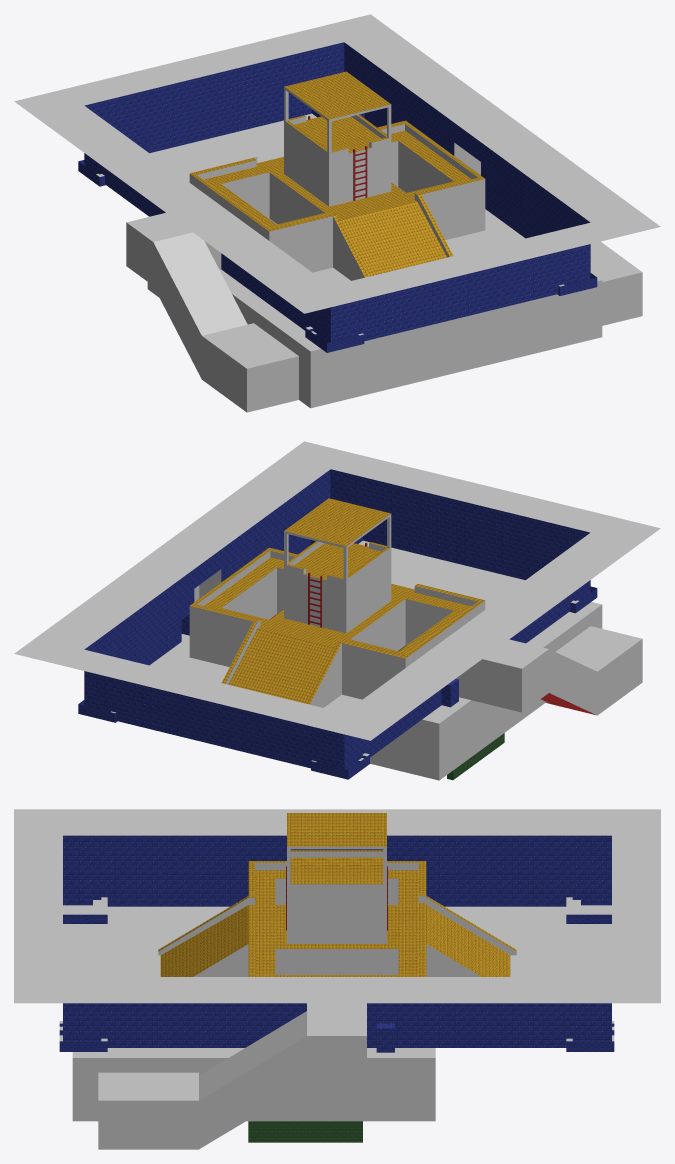
The model's file is map.obj.
3 renders of one model, top to bottom at view 1: azimuth 30°, elevation 25°; view 2: azimuth 150°, elevation 25°; view 3: azimuth 270°, elevation 25°, orthographic. The views are drawn at different scales.
Visible parts, largest first — view 1: Plane.002, Plane.001, Plane.004, Cube.008; view 2: Plane.002, Plane.001, Plane.004, Cube.008, Cube.005; view 3: Plane.002, Plane.001, Plane.004, Cube.008, Cube.005.
Part boxes in pixels (bbox=[...]): Plane.002: bbox=[14, 14, 660, 412]; Plane.001: bbox=[189, 71, 485, 280]; Plane.004: bbox=[150, 113, 525, 285]; Cube.008: bbox=[78, 110, 597, 352]; Plane.002: bbox=[14, 441, 660, 780]; Plane.001: bbox=[189, 498, 485, 707]; Plane.004: bbox=[149, 540, 524, 712]; Cube.008: bbox=[78, 537, 597, 779]; Cube.005: bbox=[447, 733, 504, 780]; Plane.002: bbox=[14, 809, 660, 1149]; Plane.001: bbox=[158, 813, 516, 976]; Plane.004: bbox=[63, 906, 611, 976]; Cube.008: bbox=[59, 897, 614, 1051]; Cube.005: bbox=[248, 1121, 362, 1142].
Bounding box in the file's own units: 28.45 × 15.02 × 36.15.
